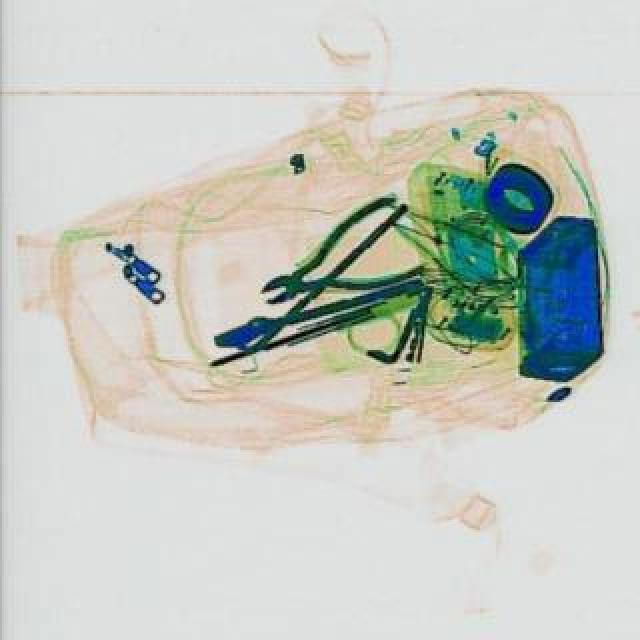wrench: (244, 190, 432, 330)
